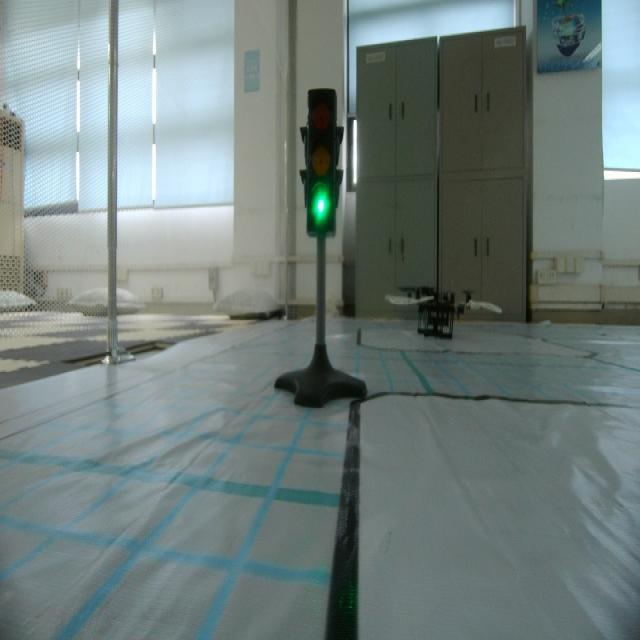green: (301, 89, 339, 243)
